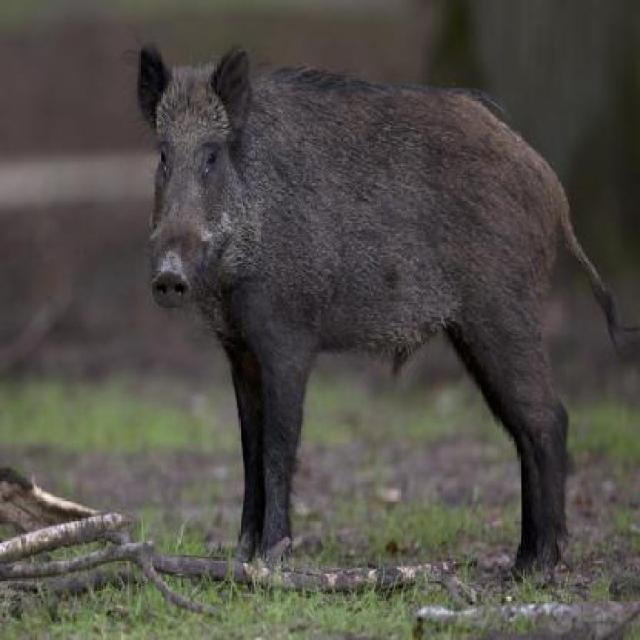wildboar: (139, 38, 630, 577)
